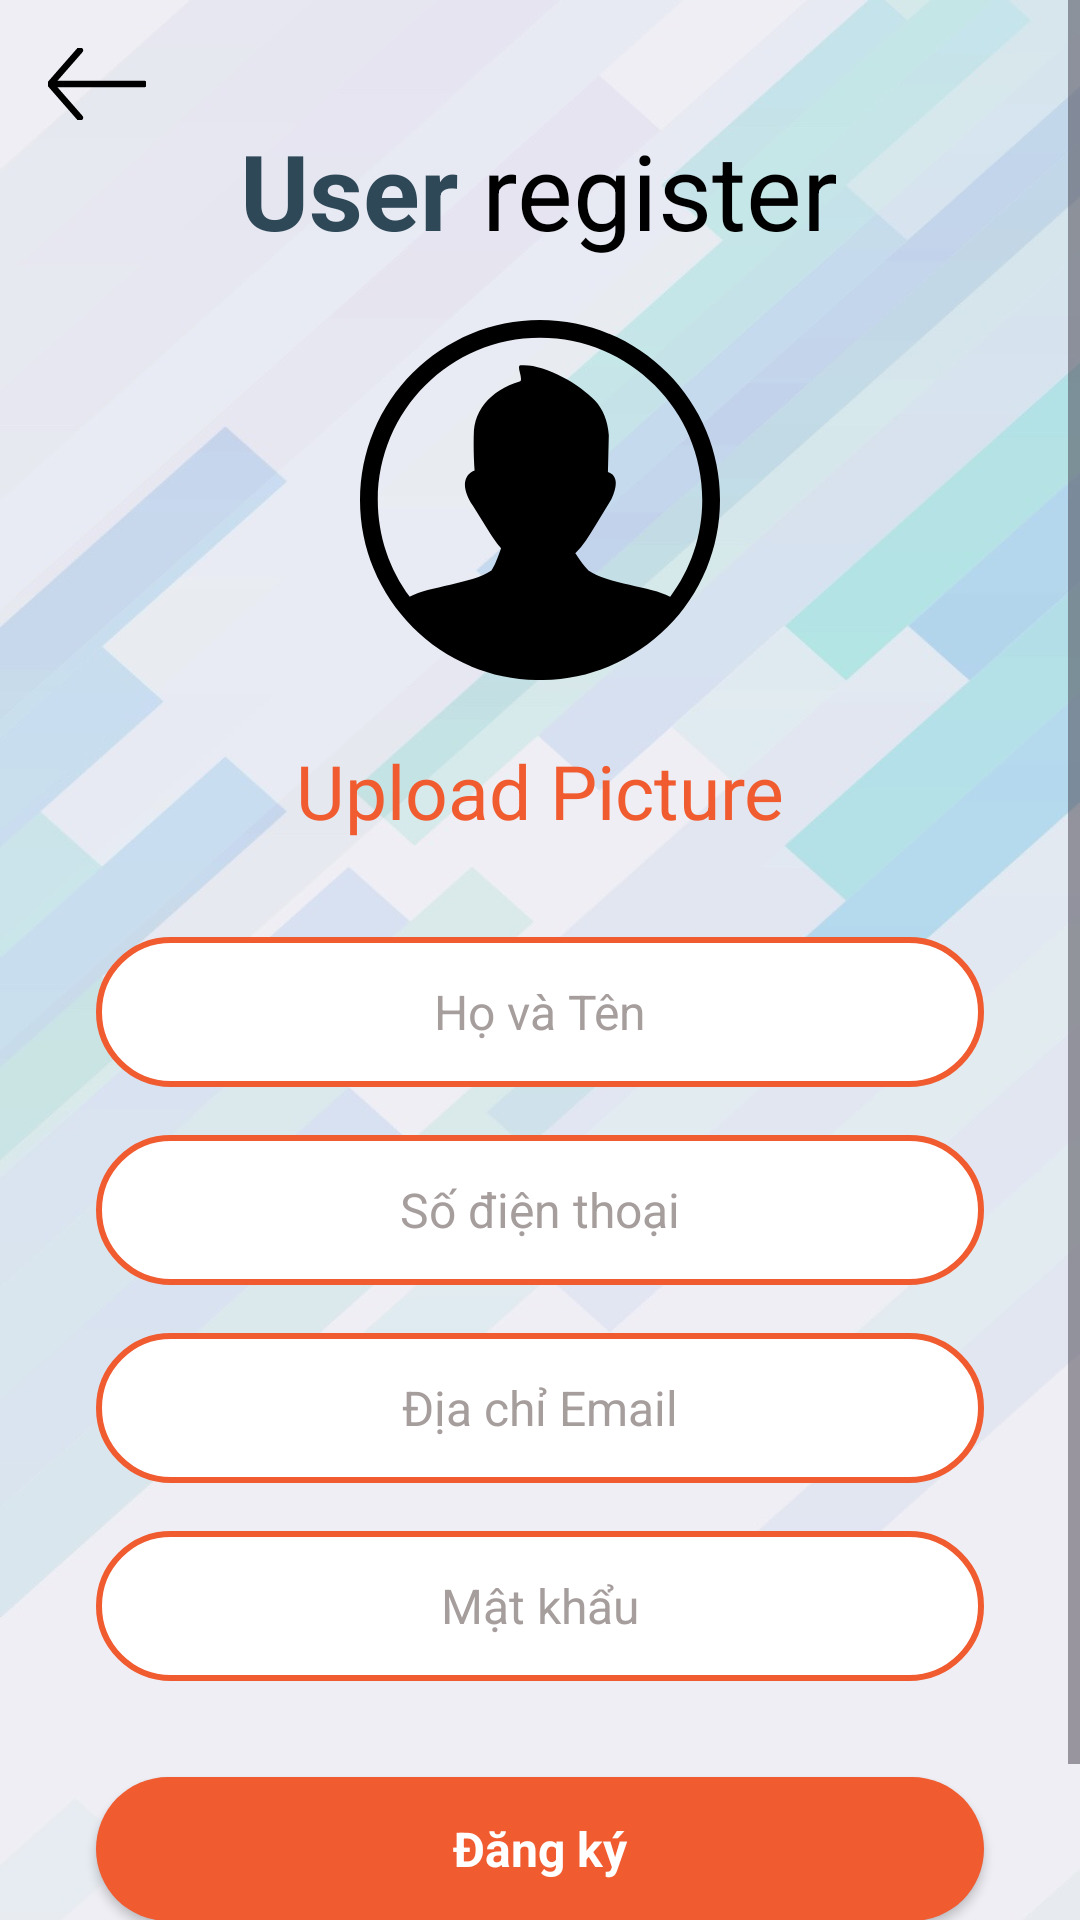

Screen size 1080*1920. Icon name, then its box in pixels as (x1, y1, x2, y2):
back arrow: (48, 48, 146, 120)
